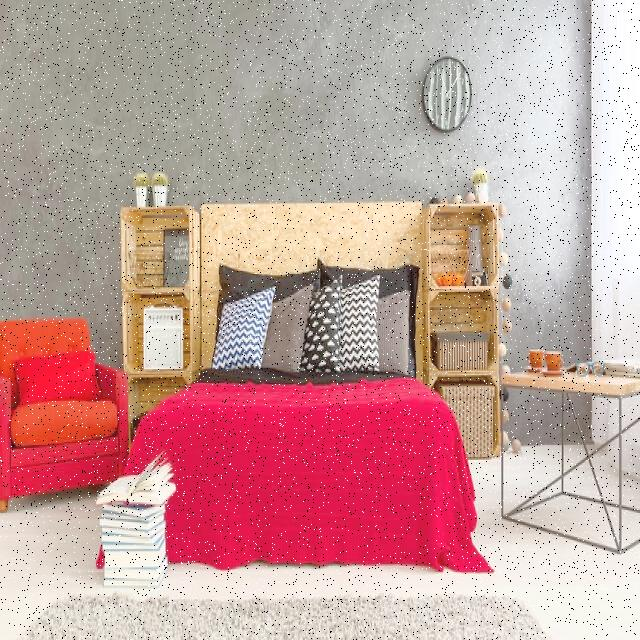bed: (126, 255, 469, 565)
